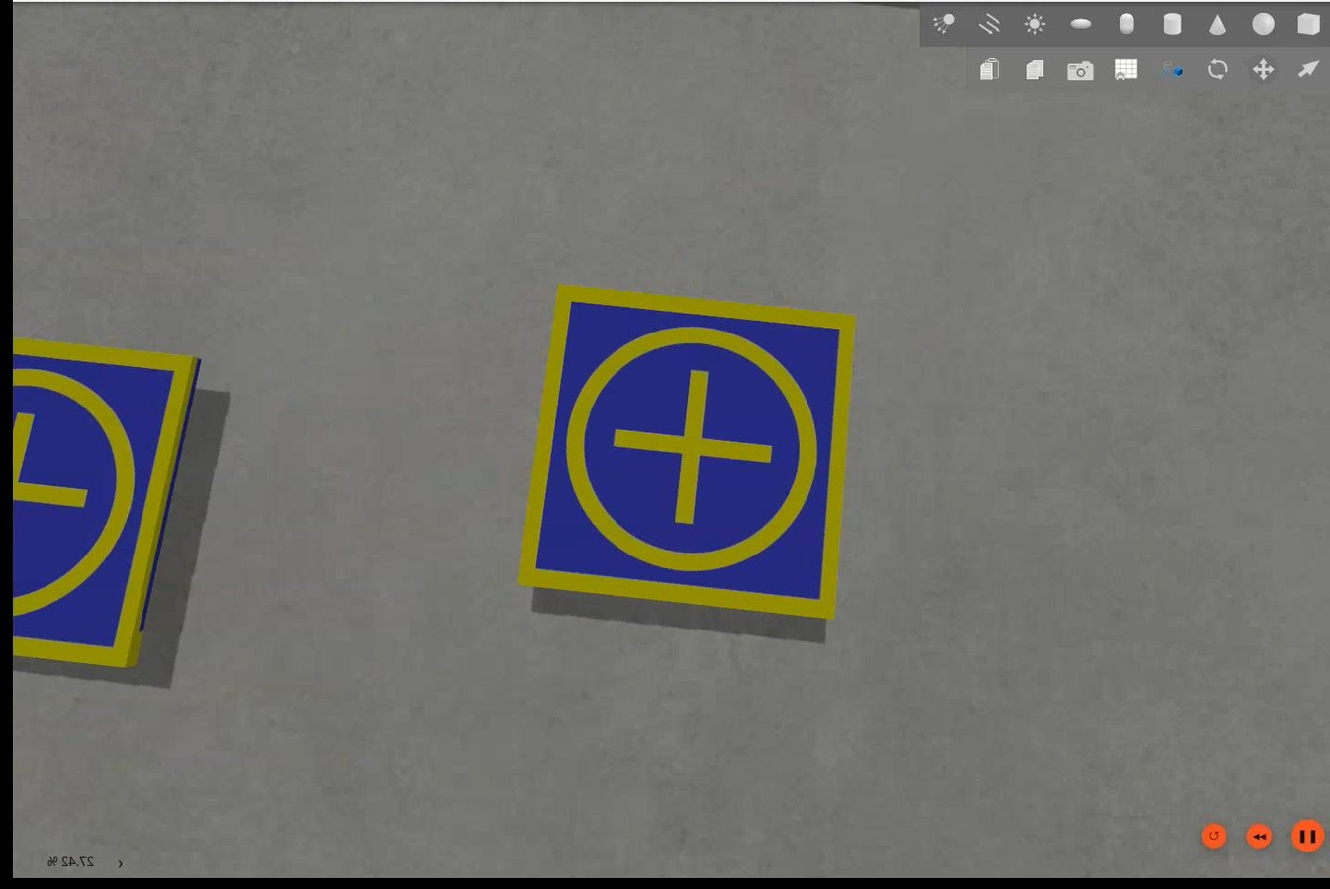small_base: (511, 290, 856, 626), (9, 341, 197, 668)
